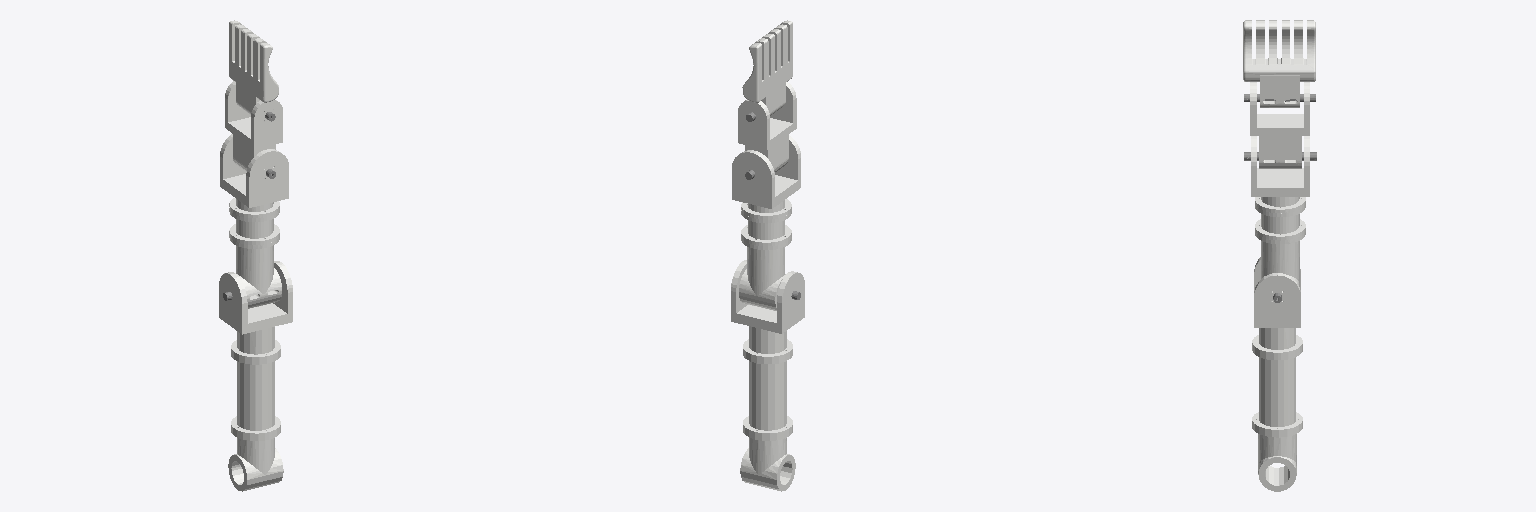
The robot description file, URDF, robot "assembly_urdf":
<?xml version="1.0" encoding="utf-8"?>
<!-- This URDF was automatically created by SolidWorks to URDF Exporter! Originally created by [author] ([email redacted]) 
     Commit Version: 1.5.1-0-g916b5db  Build Version: 1.5.7152.31018
     For more information, please see http://wiki.ros.org/sw_urdf_exporter -->
<robot
  name="assembly_urdf">
  <link
    name="base_link">
    <inertial>
      <origin
        xyz="-1.88332288303835E-05 0.335041830979376 0.0672559512927368"
        rpy="0 0 0" />
      <mass
        value="2.50216732502463" />
      <inertia
        ixx="0.0653823275083831"
        ixy="1.06934829883648E-05"
        ixz="-1.98536691802048E-08"
        iyy="0.00548013594659747"
        iyz="-8.39676001019919E-09"
        izz="0.0665700447223665" />
    </inertial>
    <visual>
      <origin
        xyz="0 0 0"
        rpy="0 0 0" />
      <geometry>
        <mesh
          filename="package://assembly_urdf/meshes/base_link.STL" />
      </geometry>
      <material
        name="">
        <color
          rgba="0.964705882352941 0.964705882352941 0.952941176470588 1" />
      </material>
    </visual>
    <collision>
      <origin
        xyz="0 0 0"
        rpy="0 0 0" />
      <geometry>
        <mesh
          filename="package://assembly_urdf/meshes/base_link.STL" />
      </geometry>
    </collision>
  </link>
  <link
    name="shaft_link1">
    <inertial>
      <origin
        xyz="-2.28346780373201E-08 0.0862779061401729 -0.000639254948745727"
        rpy="0 0 0" />
      <mass
        value="0.046919956660997" />
      <inertia
        ixx="0.000119663056281602"
        ixy="-3.38099444967384E-11"
        ixz="1.86974367336289E-11"
        iyy="2.34114622141712E-06"
        iyz="-9.48476256333392E-08"
        izz="0.000119826953022065" />
    </inertial>
    <visual>
      <origin
        xyz="0 0 0"
        rpy="0 0 0" />
      <geometry>
        <mesh
          filename="package://assembly_urdf/meshes/shaft_link1.STL" />
      </geometry>
      <material
        name="">
        <color
          rgba="0.627450980392157 0.627450980392157 0.627450980392157 1" />
      </material>
    </visual>
    <collision>
      <origin
        xyz="0 0 0"
        rpy="0 0 0" />
      <geometry>
        <mesh
          filename="package://assembly_urdf/meshes/shaft_link1.STL" />
      </geometry>
    </collision>
  </link>
  <joint
    name="motor_link1"
    type="revolute">
    <origin
      xyz="0.085 -0.067256 0.56196"
      rpy="1.5708 -1.5708 0" />
    <parent
      link="base_link" />
    <child
      link="shaft_link1" />
    <axis
      xyz="0 0 0" />
    <limit
      lower="-1.5708"
      upper="1.5708"
      effort="0"
      velocity="0" />
  </joint>
  <link
    name="Link_2">
    <inertial>
      <origin
        xyz="-0.000260501589222445 -0.00418554305359831 -1.76151432450949E-08"
        rpy="0 0 0" />
      <mass
        value="2.23900935342226" />
      <inertia
        ixx="0.00651527634561222"
        ixy="1.82478627012723E-05"
        ixz="3.75604928471886E-09"
        iyy="0.00499823395365336"
        iyz="-1.44186921284753E-08"
        izz="0.00754178994678366" />
    </inertial>
    <visual>
      <origin
        xyz="0 0 0"
        rpy="0 0 0" />
      <geometry>
        <mesh
          filename="package://assembly_urdf/meshes/Link_2.STL" />
      </geometry>
      <material
        name="">
        <color
          rgba="0.964705882352941 0.964705882352941 0.952941176470588 1" />
      </material>
    </visual>
    <collision>
      <origin
        xyz="0 0 0"
        rpy="0 0 0" />
      <geometry>
        <mesh
          filename="package://assembly_urdf/meshes/Link_2.STL" />
      </geometry>
    </collision>
  </link>
  <joint
    name="pitch_link"
    type="revolute">
    <origin
      xyz="0.00028402 -0.060596 0.71296"
      rpy="-1.5708 0 -1.5708" />
    <parent
      link="base_link" />
    <child
      link="Link_2" />
    <axis
      xyz="0 0 0" />
    <limit
      lower="-1.5708"
      upper="1.5708"
      effort="0"
      velocity="0" />
  </joint>
  <link
    name="shaft_link2">
    <inertial>
      <origin
        xyz="-2.28346784814093E-08 0.0862779061401616 -0.000639254948745162"
        rpy="0 0 0" />
      <mass
        value="0.0469199566610044" />
      <inertia
        ixx="0.000119663056281604"
        ixy="-3.38099442054279E-11"
        ixz="1.86974367409058E-11"
        iyy="2.3411462214172E-06"
        iyz="-9.48476256329531E-08"
        izz="0.000119826953022066" />
    </inertial>
    <visual>
      <origin
        xyz="0 0 0"
        rpy="0 0 0" />
      <geometry>
        <mesh
          filename="package://assembly_urdf/meshes/shaft_link2.STL" />
      </geometry>
      <material
        name="">
        <color
          rgba="0.627450980392157 0.627450980392157 0.627450980392157 1" />
      </material>
    </visual>
    <collision>
      <origin
        xyz="0 0 0"
        rpy="0 0 0" />
      <geometry>
        <mesh
          filename="package://assembly_urdf/meshes/shaft_link2.STL" />
      </geometry>
    </collision>
  </link>
  <joint
    name="motor_link2"
    type="revolute">
    <origin
      xyz="0.085 -0.18 0"
      rpy="0 0 1.5708" />
    <parent
      link="Link_2" />
    <child
      link="shaft_link2" />
    <axis
      xyz="0 0 0" />
    <limit
      lower="-1.5708"
      upper="1.5708"
      effort="0"
      velocity="0" />
    <mimic
      joint="motor_link3"
      multiplier="1"
      offset="0" />
  </joint>
  <link
    name="link_3">
    <inertial>
      <origin
        xyz="0.00894239401770391 0.000280508075083915 -4.84079033715931E-05"
        rpy="0 0 0" />
      <mass
        value="0.973698526007838" />
      <inertia
        ixx="0.00203345368620413"
        ixy="-4.15867011984283E-06"
        ixz="-4.19134011282035E-06"
        iyy="0.00419113796679173"
        iyz="-1.30677423529018E-08"
        izz="0.00294630958867532" />
    </inertial>
    <visual>
      <origin
        xyz="0 0 0"
        rpy="0 0 0" />
      <geometry>
        <mesh
          filename="package://assembly_urdf/meshes/link_3.STL" />
      </geometry>
      <material
        name="">
        <color
          rgba="0.964705882352941 0.964705882352941 0.952941176470588 1" />
      </material>
    </visual>
    <collision>
      <origin
        xyz="0 0 0"
        rpy="0 0 0" />
      <geometry>
        <mesh
          filename="package://assembly_urdf/meshes/link_3.STL" />
      </geometry>
    </collision>
  </link>
  <joint
    name="yaw_link"
    type="revolute">
    <origin
      xyz="-0.0013889 -0.060856 0.96396"
      rpy="0.2264 1.5708 -1.3444" />
    <parent
      link="base_link" />
    <child
      link="link_3" />
    <axis
      xyz="0 0 0" />
    <limit
      lower="-1.5708"
      upper="1.5708"
      effort="0"
      velocity="0" />
  </joint>
  <link
    name="shaft_link3">
    <inertial>
      <origin
        xyz="-2.2834678370387E-08 0.0862779061401833 -0.000639254945797905"
        rpy="0 0 0" />
      <mass
        value="0.0469199566610044" />
      <inertia
        ixx="0.000119663056281604"
        ixy="-3.38099445682339E-11"
        ixz="1.86974367587241E-11"
        iyy="2.34114622142368E-06"
        iyz="-9.48476296462588E-08"
        izz="0.000119826953022059" />
    </inertial>
    <visual>
      <origin
        xyz="0 0 0"
        rpy="0 0 0" />
      <geometry>
        <mesh
          filename="package://assembly_urdf/meshes/shaft_link3.STL" />
      </geometry>
      <material
        name="">
        <color
          rgba="0.627450980392157 0.627450980392157 0.627450980392157 1" />
      </material>
    </visual>
    <collision>
      <origin
        xyz="0 0 0"
        rpy="0 0 0" />
      <geometry>
        <mesh
          filename="package://assembly_urdf/meshes/shaft_link3.STL" />
      </geometry>
    </collision>
  </link>
  <joint
    name="motor_link3"
    type="revolute">
    <origin
      xyz="-0.08 0 0.085"
      rpy="-1.5708 0 0" />
    <parent
      link="link_3" />
    <child
      link="shaft_link3" />
    <axis
      xyz="0 0 0" />
    <limit
      lower="-1.5708"
      upper="1.5708"
      effort="0"
      velocity="0" />
    <mimic
      joint="motor_link2"
      multiplier="1"
      offset="0" />
  </joint>
  <link
    name="gripper_link">
    <inertial>
      <origin
        xyz="0.0216976226907989 -0.122547144464517 0.0814178968871869"
        rpy="0 0 0" />
      <mass
        value="0.822220892683325" />
      <inertia
        ixx="0.00271143118949264"
        ixy="7.85142372267252E-05"
        ixz="-3.38432825835257E-07"
        iyy="0.00174277915122272"
        iyz="1.08542481244002E-06"
        izz="0.00120037814165339" />
    </inertial>
    <visual>
      <origin
        xyz="0 0 0"
        rpy="0 0 0" />
      <geometry>
        <mesh
          filename="package://assembly_urdf/meshes/gripper_link.STL" />
      </geometry>
      <material
        name="">
        <color
          rgba="0.964705882352941 0.964705882352941 0.952941176470588 1" />
      </material>
    </visual>
    <collision>
      <origin
        xyz="0 0 0"
        rpy="0 0 0" />
      <geometry>
        <mesh
          filename="package://assembly_urdf/meshes/gripper_link.STL" />
      </geometry>
    </collision>
  </link>
  <joint
    name="gripper_movement"
    type="revolute">
    <origin
      xyz="-0.02769 0.018952 1.2402"
      rpy="1.5708 0 0" />
    <parent
      link="base_link" />
    <child
      link="gripper_link" />
    <axis
      xyz="0 0 0" />
    <limit
      lower="-1.5708"
      upper="1.5708"
      effort="0"
      velocity="0" />
  </joint>
</robot>

--- What the picture shows (computed from the rendered views, not written in the file) ---
3 views of the same robot in one strip: view 1: azimuth 30°, elevation 25°; view 2: azimuth 150°, elevation 25°; view 3: azimuth 270°, elevation 25° (orthographic).
Model assembly_urdf with 7 links and 6 joints (6 revolute), rooted at base_link, posed all joints at 0.
Visible links, largest first — view 1: base_link, Link_2, gripper_link, link_3; view 2: base_link, Link_2, gripper_link, link_3; view 3: base_link, Link_2, gripper_link, link_3.
Link boxes in pixels (x1=…): base_link: x1=219, y1=261, x2=292, y2=491; Link_2: x1=220, y1=134, x2=288, y2=308; gripper_link: x1=229, y1=20, x2=278, y2=114; link_3: x1=225, y1=81, x2=282, y2=171; base_link: x1=731, y1=260, x2=804, y2=491; Link_2: x1=732, y1=135, x2=800, y2=310; gripper_link: x1=742, y1=20, x2=792, y2=115; link_3: x1=738, y1=82, x2=796, y2=171; base_link: x1=1252, y1=257, x2=1302, y2=491; Link_2: x1=1251, y1=136, x2=1309, y2=286; gripper_link: x1=1243, y1=20, x2=1315, y2=107; link_3: x1=1250, y1=82, x2=1309, y2=168.
Bounding box of the posed robot: 0.17 × 0.1719 × 1.19 m (x, y, z).
Meshes: 7 distinct files referenced, 7 mesh visuals loaded (7 binary STL).